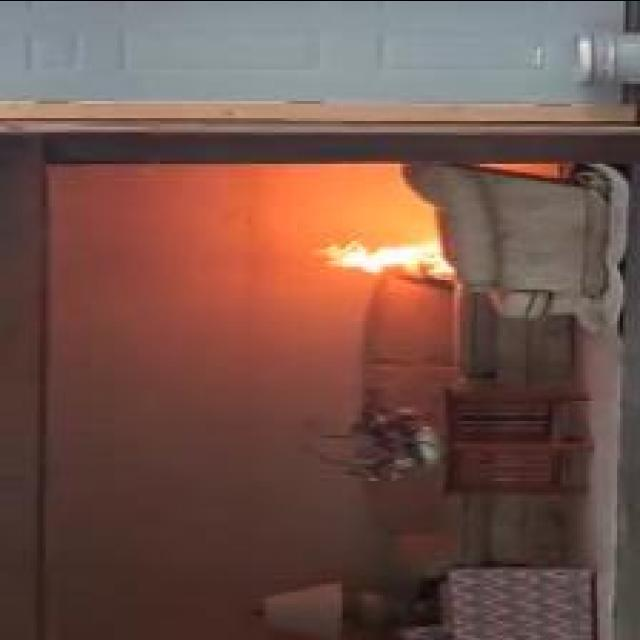Fire: (316, 238, 456, 272)
